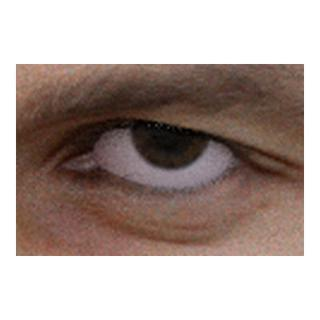pupil: (153, 112, 190, 149)
